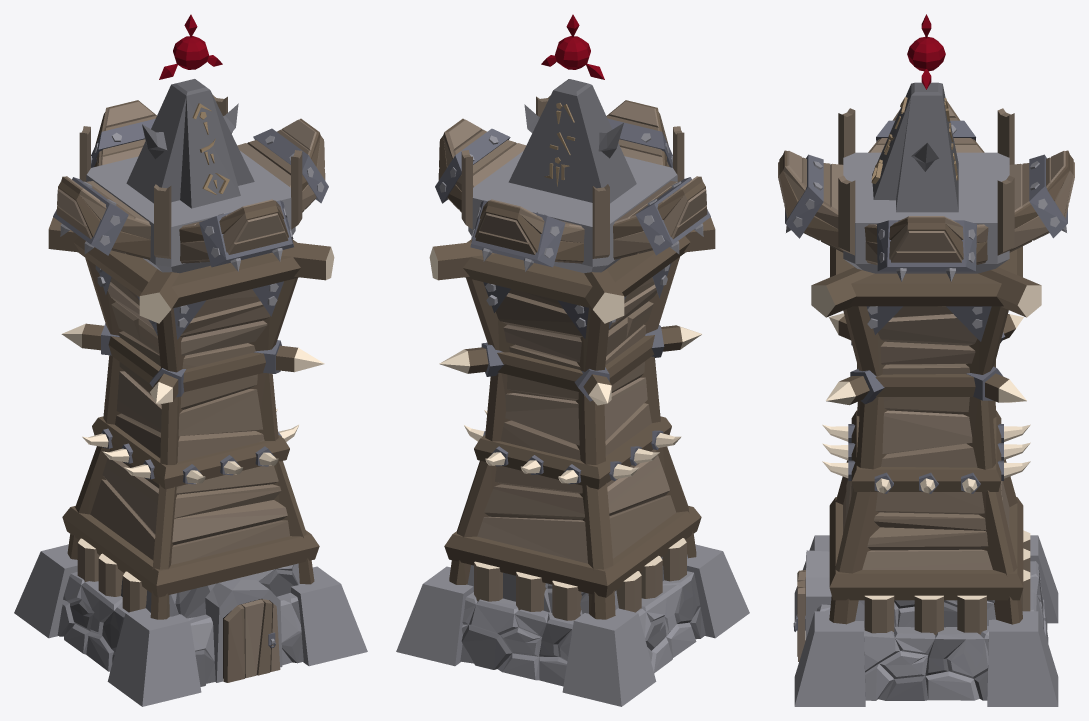
Rendered from _Wizard_tower_LVL_4.fbx.
3 renders of one model, left to right at view 1: azimuth 30°, elevation 25°; view 2: azimuth 150°, elevation 25°; view 3: azimuth 270°, elevation 25°, orthographic. The views are drawn at different scales.
Parts seen in each view (by area): view 1: Wizard_tower_LVL_4; view 2: Wizard_tower_LVL_4; view 3: Wizard_tower_LVL_4.
Boxes of the visible parts, box(x1,y1,x2,y2) form: Wizard_tower_LVL_4: box(14, 14, 367, 706); Wizard_tower_LVL_4: box(396, 14, 749, 706); Wizard_tower_LVL_4: box(778, 14, 1074, 706).
Bounding box in the file's own units: 806 × 1906 × 806.
